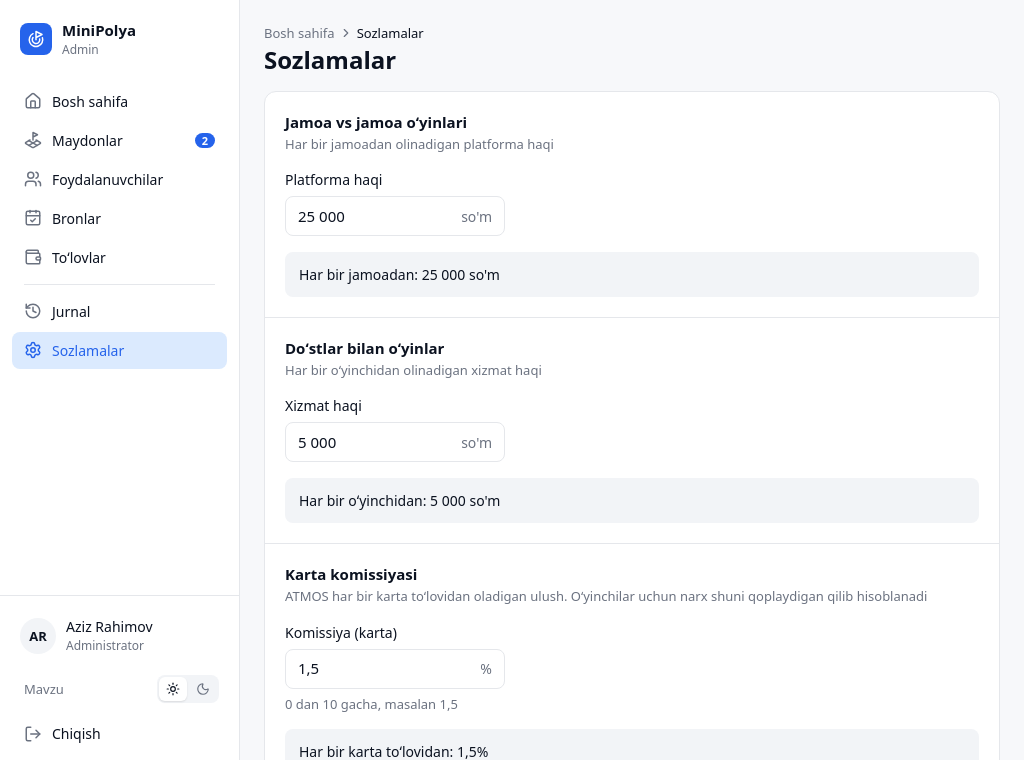
Test: Sozlamalar › shows the backend range errors on the card fee and the rounding step
Replace the text in the field labelled "Komissiya (karta)" with "12": (385, 668) 298,658 -> 472,679
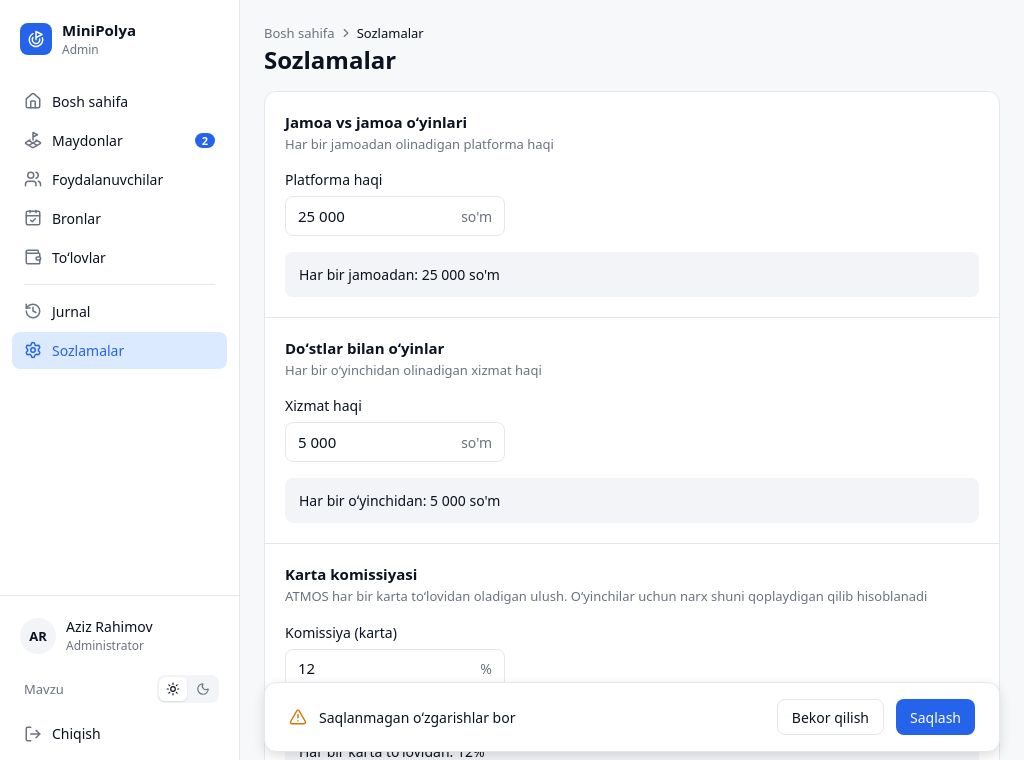
Click the button "Saqlash": (936, 717) 896,699 -> 975,735
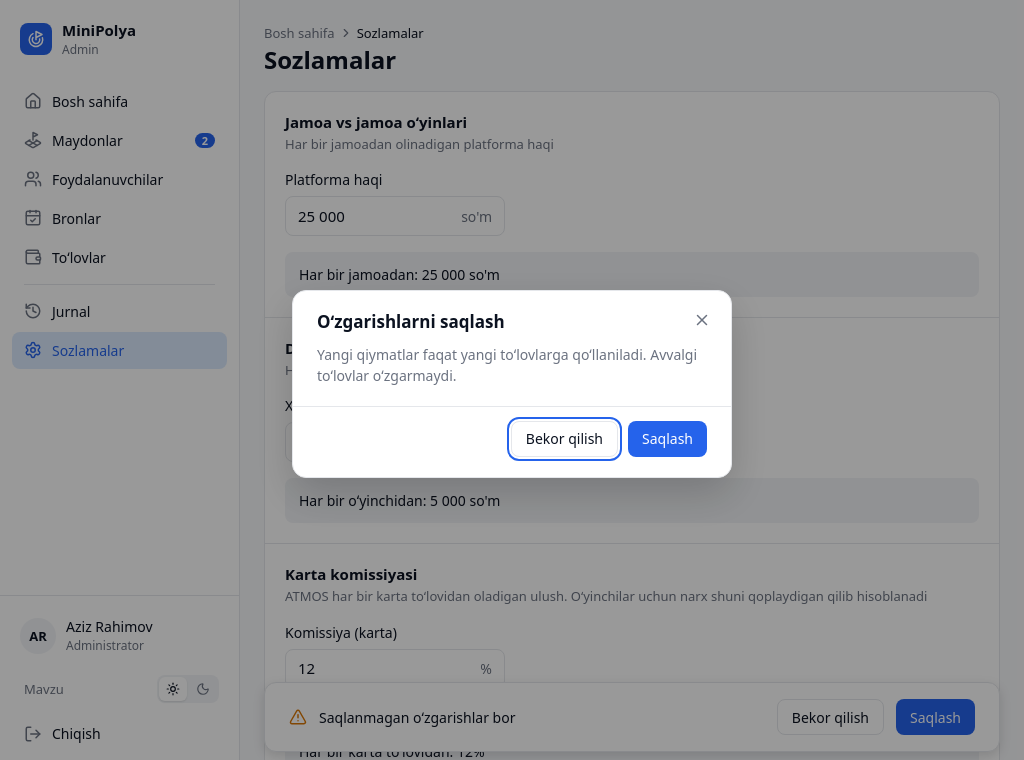
Click the button "Saqlash": (668, 438) 628,420 -> 707,456
(page scrolled)
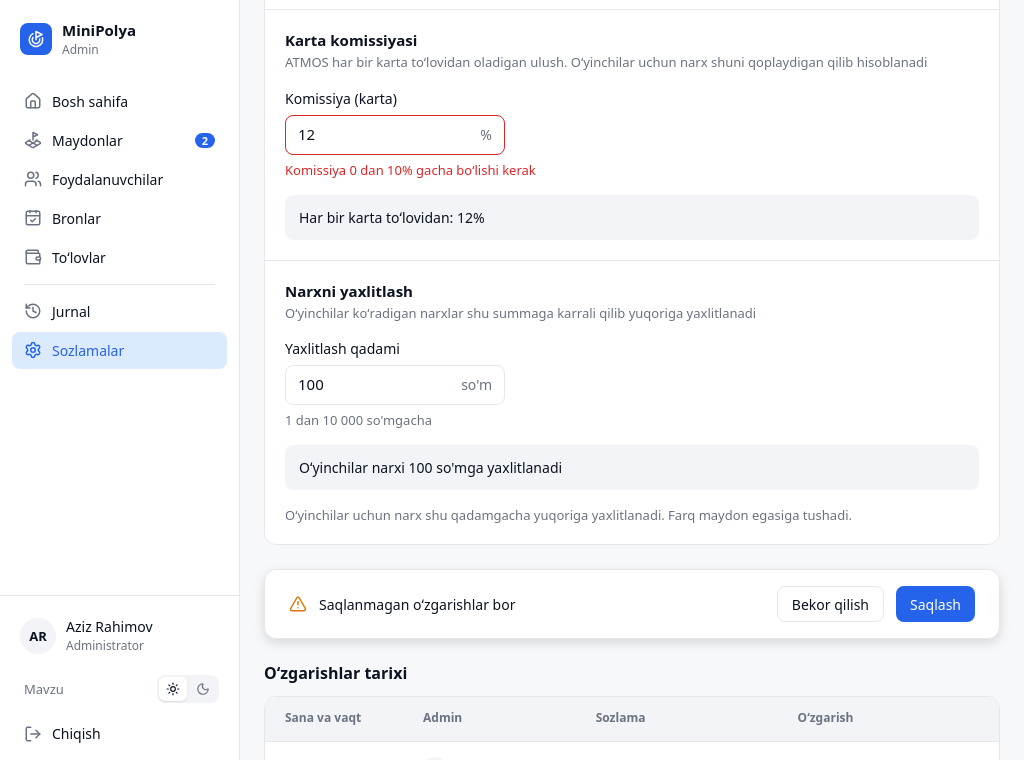
Check: the text "Komissiya 0 dan 10% gacha boʻlishi kerak" is shown, box 285,160 -> 536,178
Replace the text in the field labelled "Yaxlitlash qadami" with "20000": (376, 385) 298,374 -> 453,395
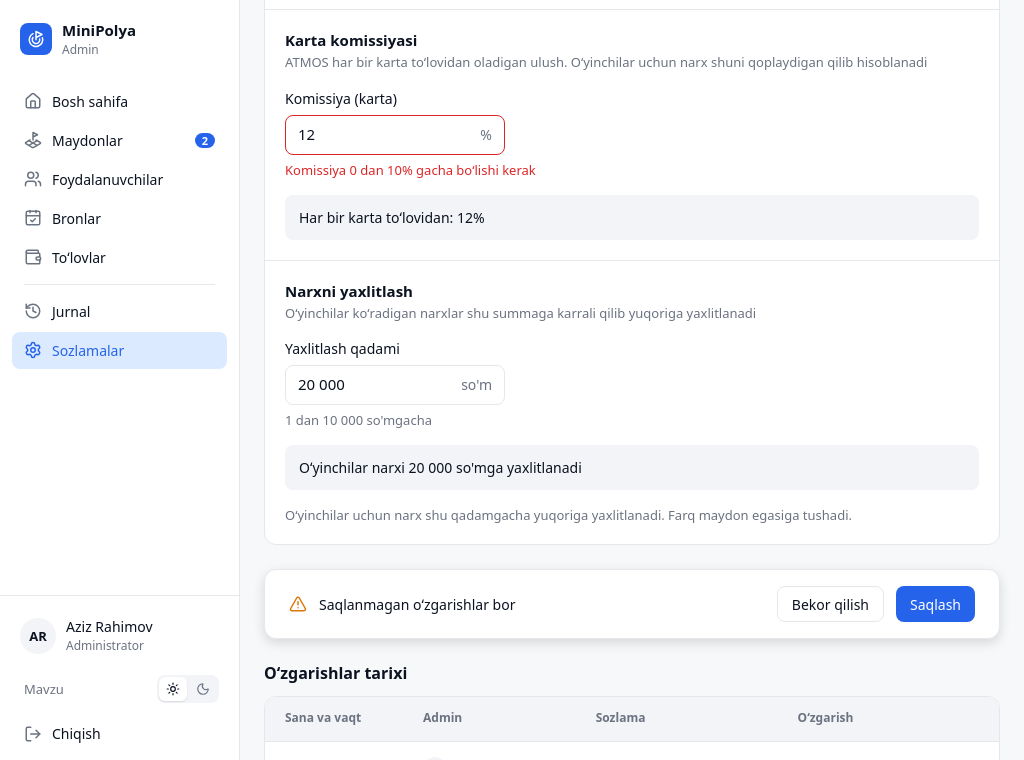
Click the button "Saqlash": (936, 604) 896,586 -> 975,622
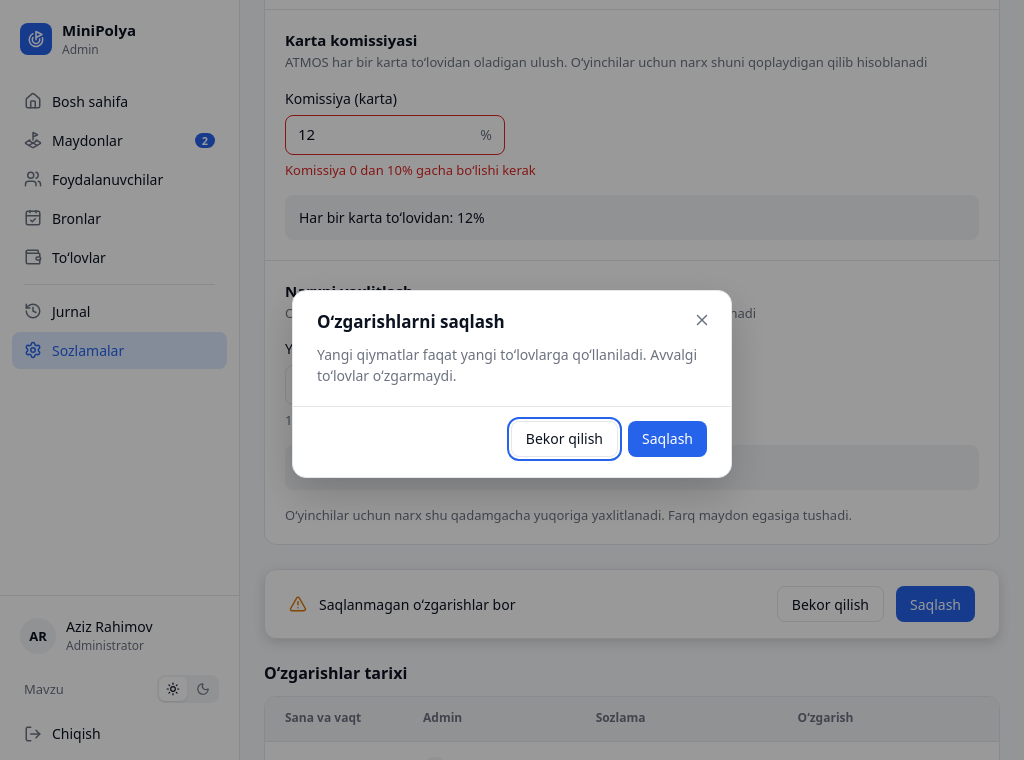
Click the button "Saqlash": (668, 438) 628,420 -> 707,456
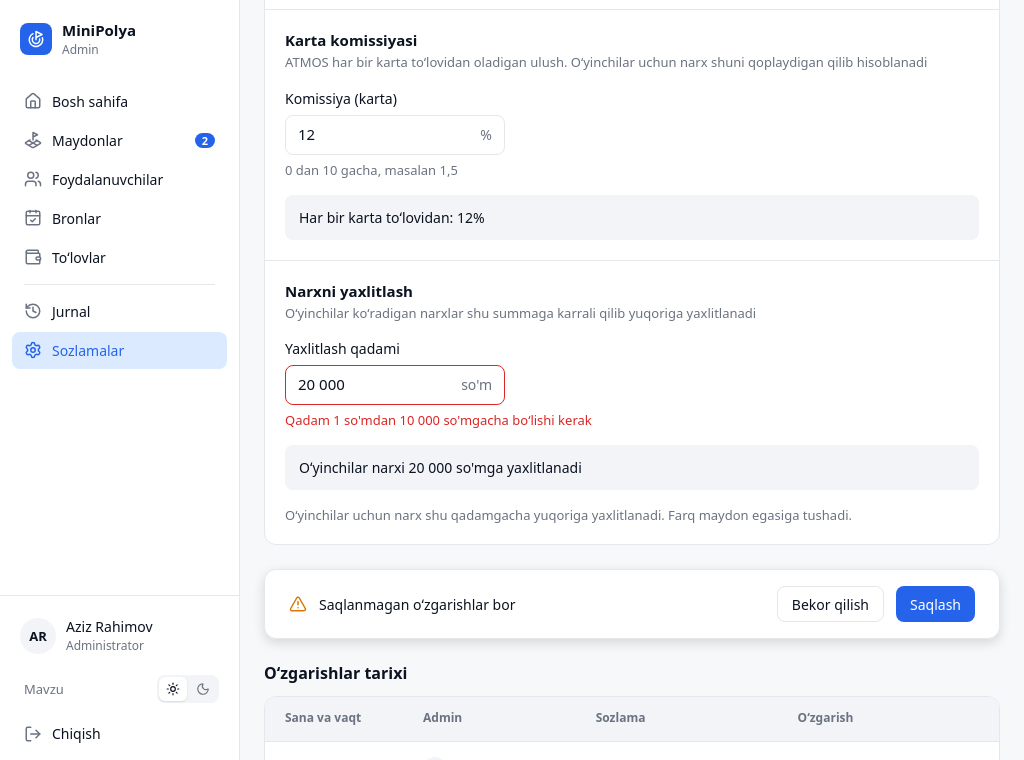
Check: the text "Qadam 1 so'mdan 10 000 so'mgacha boʻlishi kerak" is shown, box 285,411 -> 592,429
